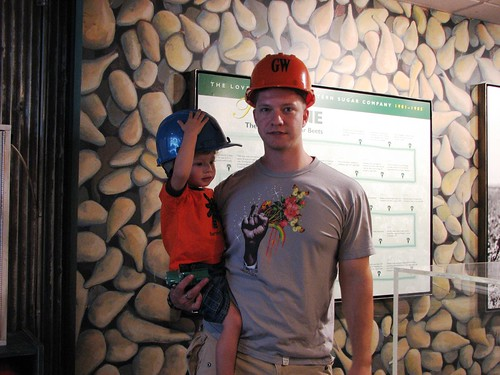person hardhat: (234, 52, 379, 375), (154, 109, 251, 374)
